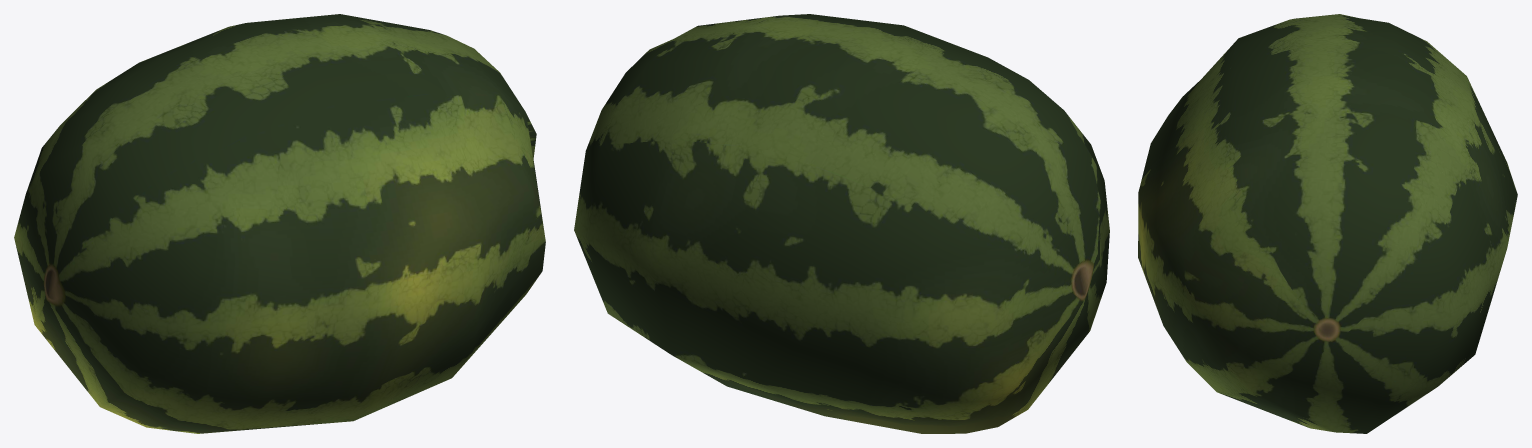
Rendered from water melon.fbx.
The picture shows the model from 3 angles, left to right: view 1: azimuth 30°, elevation 25°; view 2: azimuth 150°, elevation 25°; view 3: azimuth 270°, elevation 25°; orthographic projection. The views are drawn at different scales.
Visible parts, largest first — view 1: water_melon; view 2: water_melon; view 3: water_melon.
Boxes of the visible parts, box(x1,y1,x2,y2) form: water_melon: box(14, 14, 545, 433); water_melon: box(574, 14, 1109, 433); water_melon: box(1138, 14, 1517, 433).
Size of the model in its own units: 24.42 by 18.28 by 18.48.
